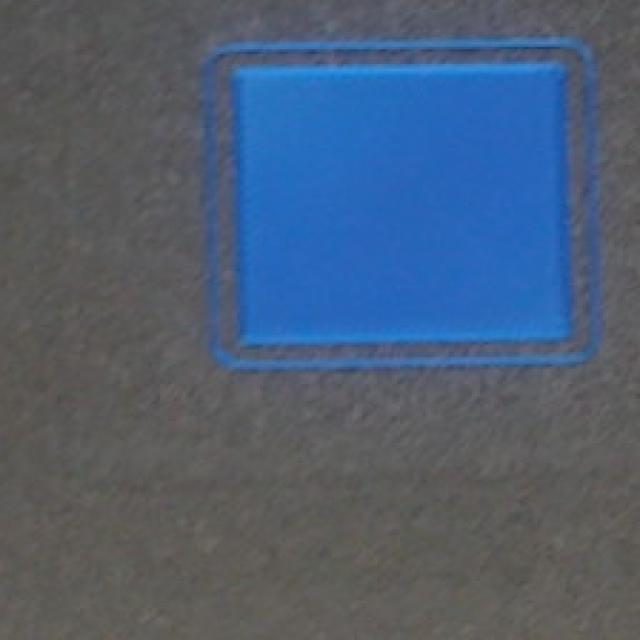noMistake: (204, 35, 611, 375)
